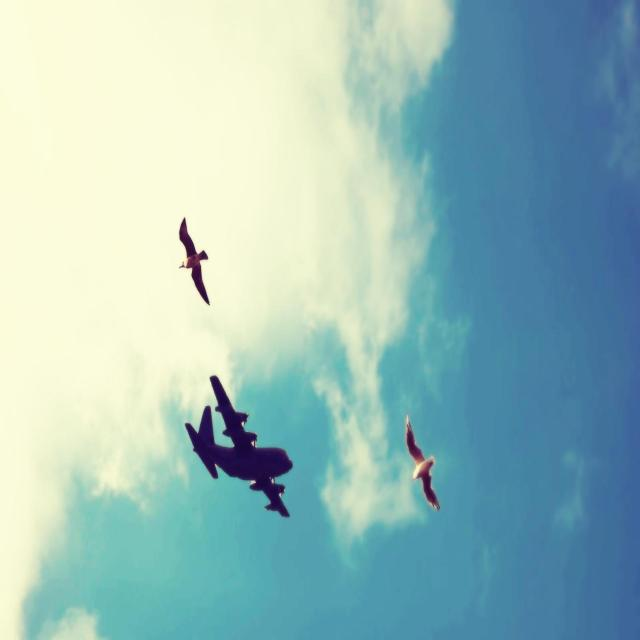airplane: (184, 374, 293, 517)
